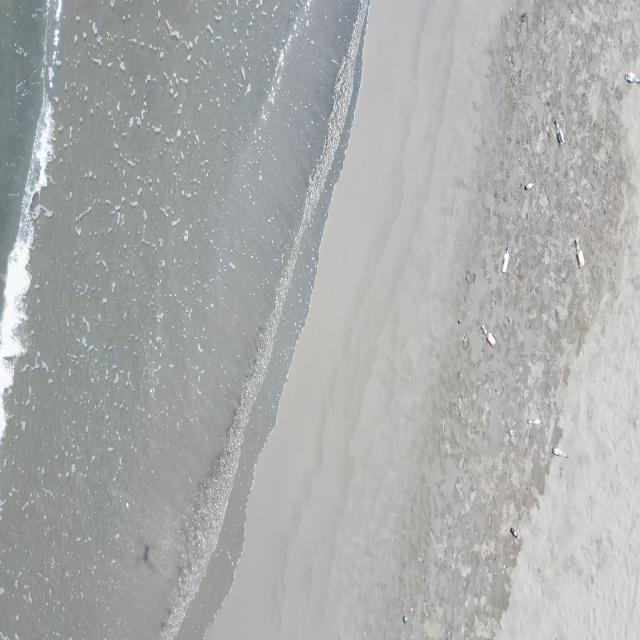glass: (482, 324, 497, 348), (576, 238, 586, 268), (555, 119, 565, 146), (501, 246, 510, 273), (553, 446, 569, 460), (626, 72, 640, 84), (512, 527, 520, 540), (528, 418, 541, 425), (524, 182, 534, 190), (402, 616, 408, 624), (509, 428, 515, 436)
